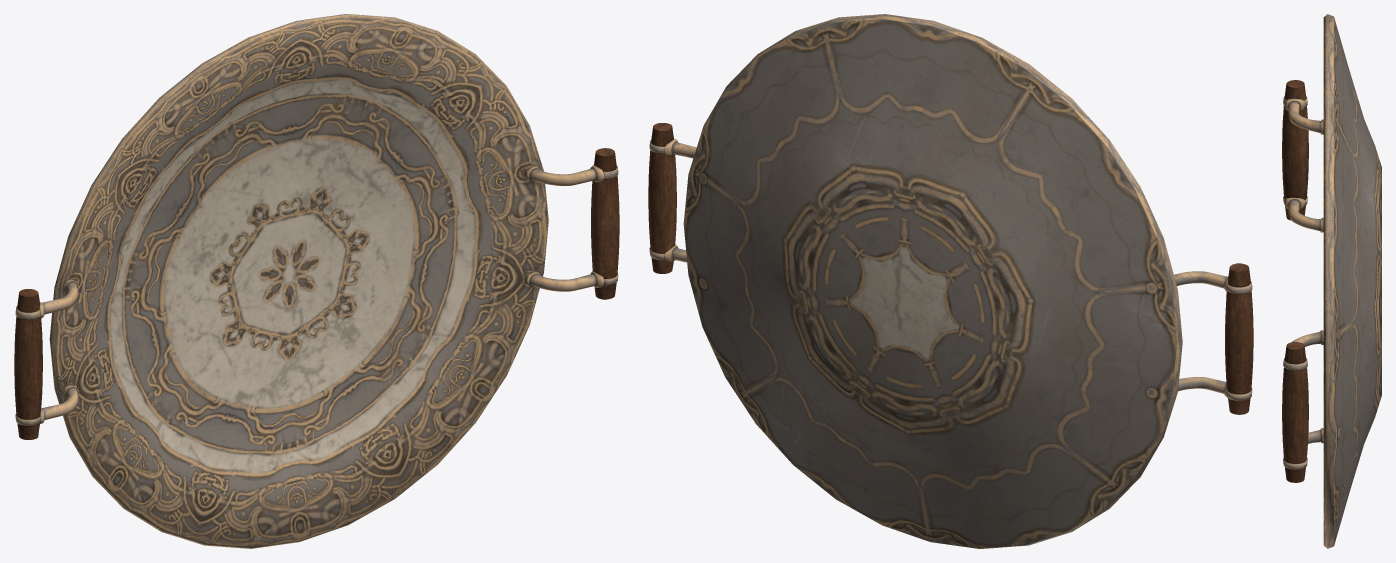
File: PLATE.obj
The picture shows the model from 3 angles, left to right: view 1: azimuth 30°, elevation 25°; view 2: azimuth 150°, elevation 25°; view 3: azimuth 270°, elevation 25°; orthographic projection. The views are drawn at different scales.
Visible parts, largest first — view 1: object_0; view 2: object_0; view 3: object_0.
Boxes of the visible parts, <box> form: object_0: <box>14,14,619,548</box>; object_0: <box>648,14,1253,548</box>; object_0: <box>1282,14,1381,548</box>.
Bounding box in the file's own units: 0.4796 × 0.3971 × 0.0741.
